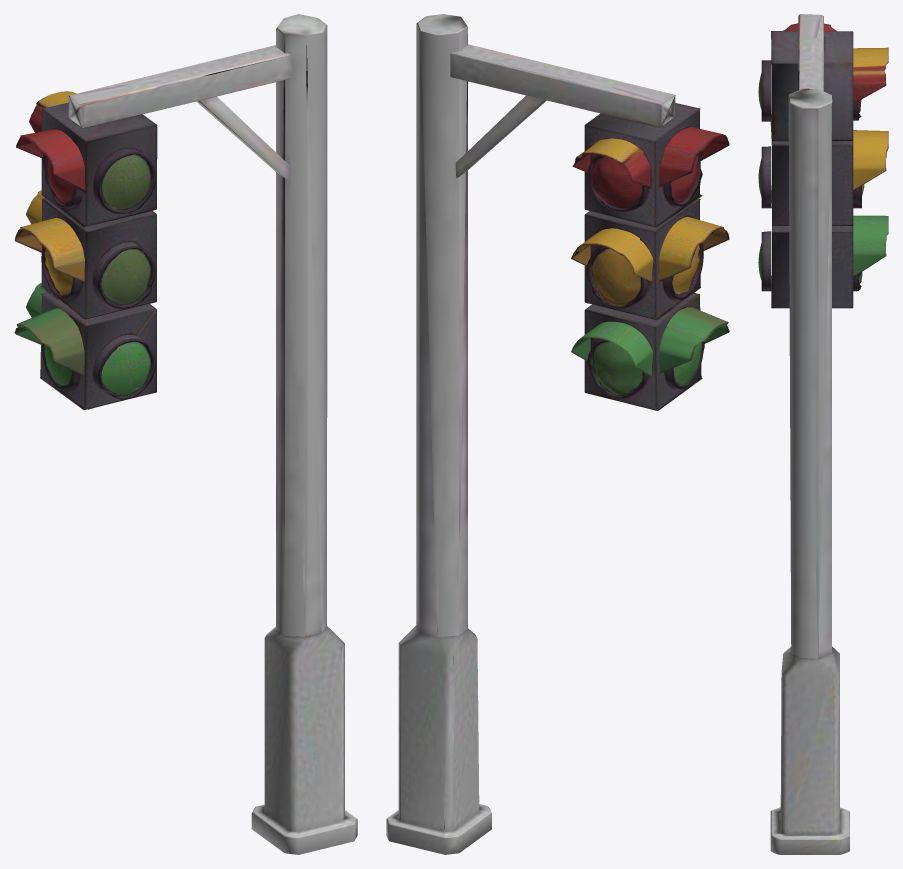
File: 55-traffic-light.glb
3 views of the same model, side by side, from view 1: azimuth 30°, elevation 25°; view 2: azimuth 150°, elevation 25°; view 3: azimuth 270°, elevation 25° (orthographic). The views are drawn at different scales.
Parts seen in each view (by area): view 1: geometry_0; view 2: geometry_0; view 3: geometry_0.
Boxes of the visible parts, left/top/right/bottom form: geometry_0: left=14, top=14, right=357, bottom=854; geometry_0: left=386, top=14, right=729, bottom=854; geometry_0: left=758, top=14, right=888, bottom=854.
Size of the model in its own units: 0.3862 by 0.9517 by 0.1514.
Materials: 1 (1 with a texture image).
